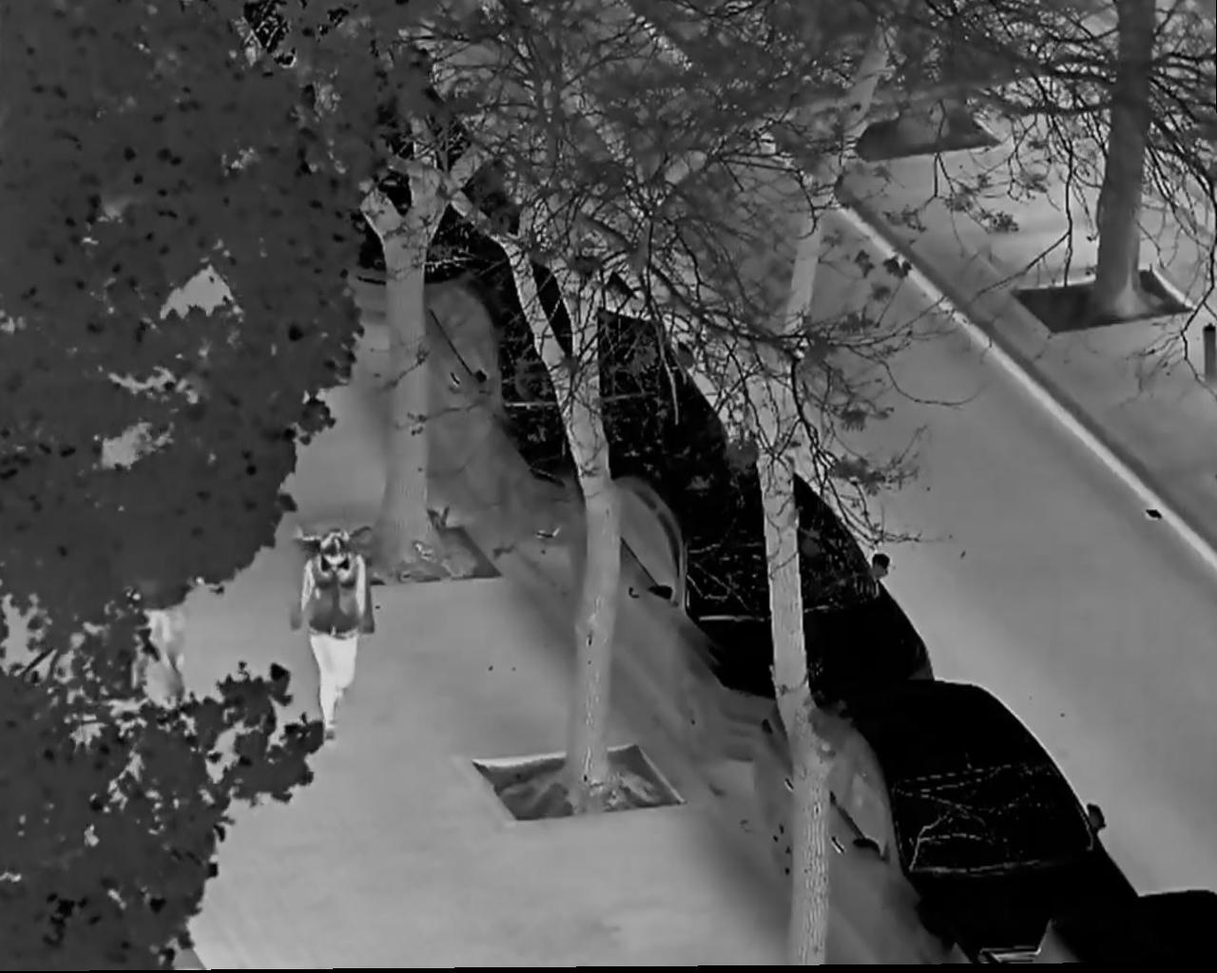person: (117, 572, 211, 779), (290, 530, 371, 747)
